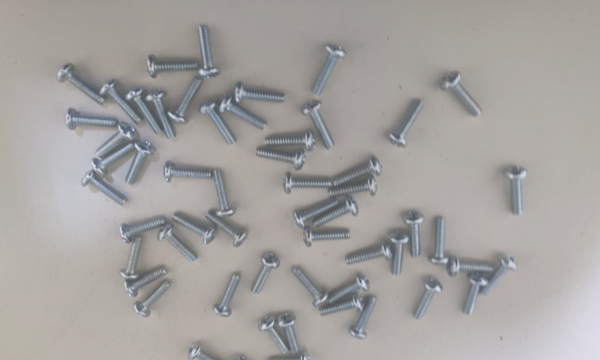shortscrew: (440, 70, 483, 119), (56, 63, 105, 105), (99, 79, 143, 124), (387, 99, 425, 149), (125, 87, 163, 136), (312, 43, 347, 96), (301, 100, 335, 152), (167, 77, 203, 126), (200, 100, 237, 147), (219, 95, 267, 131), (81, 171, 128, 206), (480, 254, 518, 297), (292, 265, 330, 308), (144, 91, 177, 140), (158, 224, 199, 263), (205, 211, 248, 248), (171, 212, 218, 245), (332, 157, 383, 187), (133, 280, 171, 320), (312, 195, 359, 227), (293, 197, 339, 228), (91, 144, 134, 177), (327, 273, 371, 305), (96, 123, 136, 158), (119, 215, 167, 244), (126, 139, 155, 187), (412, 278, 443, 321), (349, 296, 378, 341), (255, 147, 307, 172), (212, 273, 241, 317), (125, 268, 169, 297), (258, 314, 289, 355), (252, 253, 281, 296), (212, 170, 237, 218), (66, 108, 118, 131), (147, 55, 199, 78), (199, 25, 221, 78), (402, 211, 426, 259), (463, 272, 489, 316), (283, 172, 332, 195), (265, 130, 316, 152), (345, 242, 393, 265), (319, 293, 365, 317), (505, 166, 527, 216), (164, 161, 212, 183), (235, 83, 285, 104), (303, 227, 352, 248), (119, 236, 142, 280), (328, 176, 378, 196), (429, 218, 450, 265), (277, 312, 300, 354), (445, 259, 494, 278), (390, 230, 410, 276), (189, 343, 231, 360), (267, 350, 311, 360), (217, 355, 248, 360)
